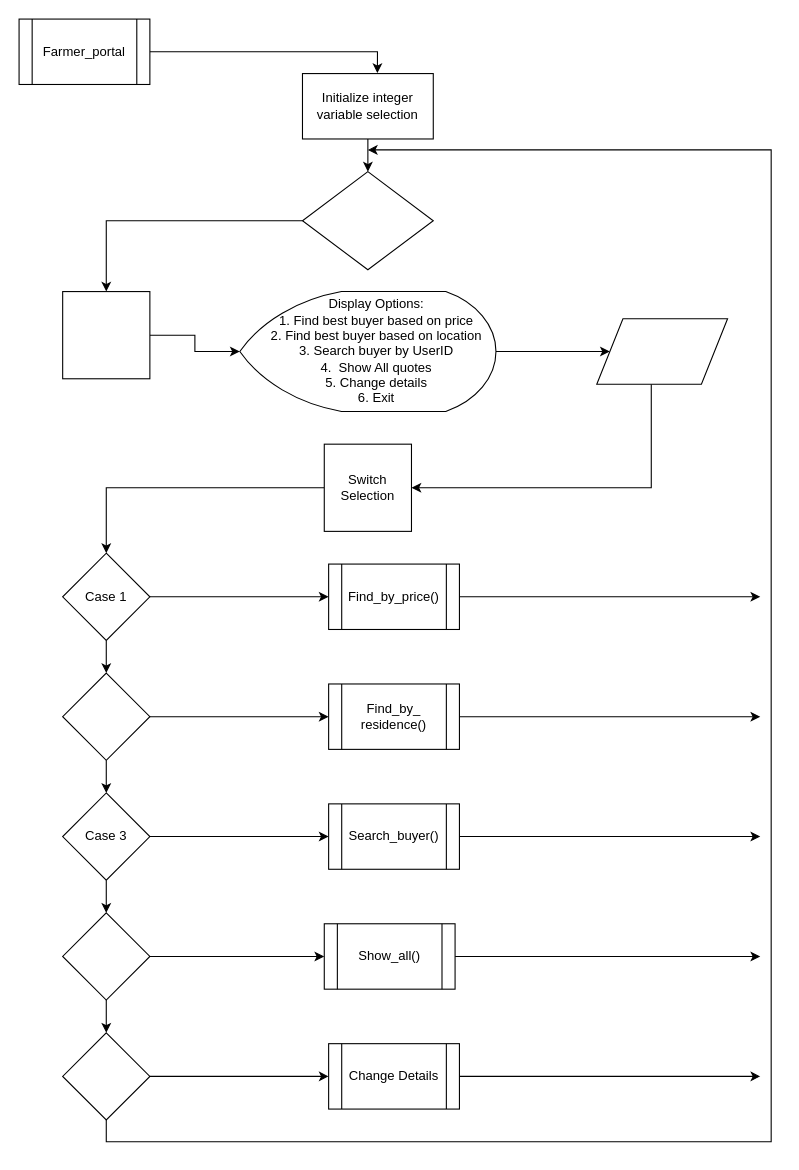
Image size: 799x1170. Some labels were removed from this diagram. Here are the shapes that lost their labels. From the top down, the centre of each, then its label:
At [367,220]: "if selection is not equal to 6".
At [106,334]: "Clear screen Console".
At [662,351]: "Input Value of Selection".
At [106,716]: "Case 2".
At [106,956]: "Case 4".
At [106,1076]: "Case 5".
